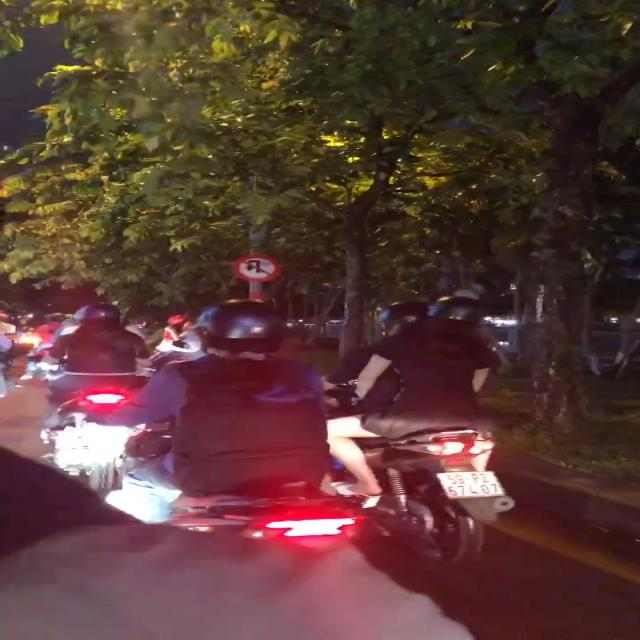Bien bao cam quay dau xe: (230, 254, 288, 284)
